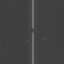dust: (31, 27, 34, 33)
